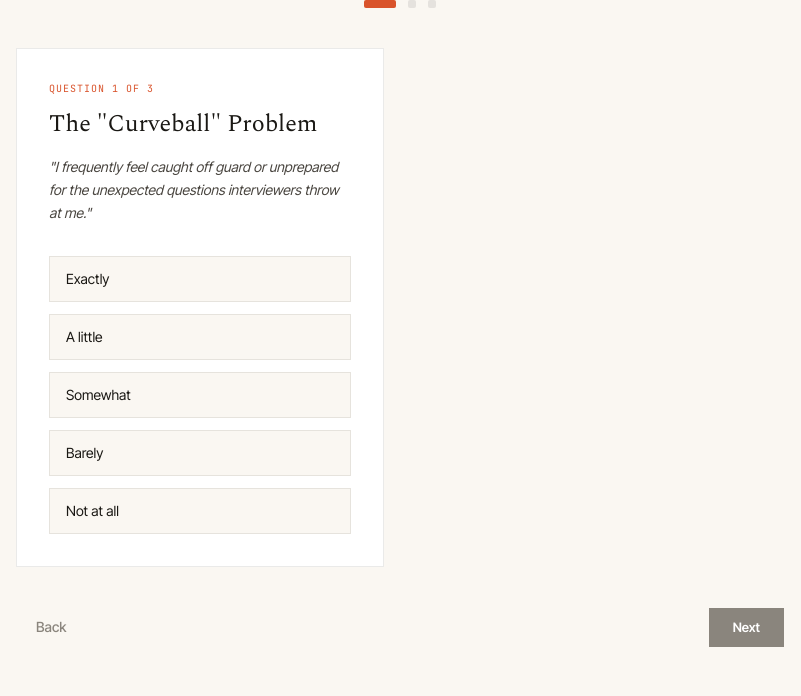
Test: SurveyStep › navigates to screen 2 when Next is clicked
This screenshot has width=801, height=696.
Click the button "Exactly".
click(88, 279)  # box [49, 256, 351, 302]
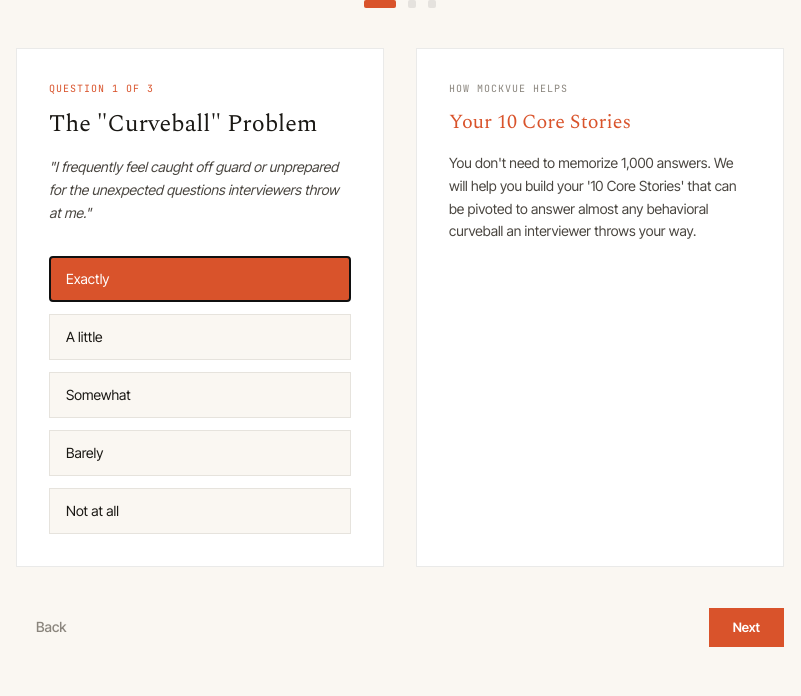
Click the button "Next".
click(746, 627)  # box [709, 608, 784, 647]
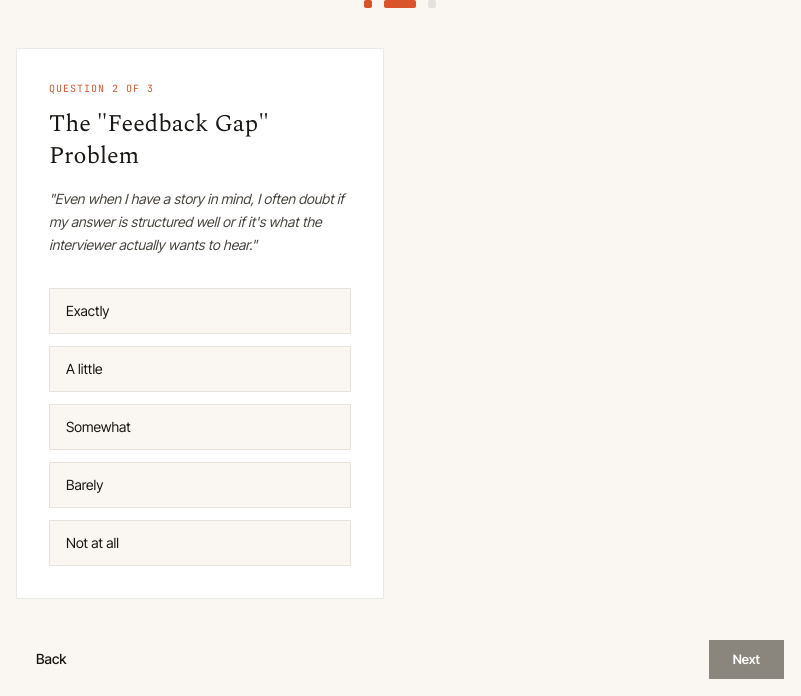
Expected: the heading "The \"Feedback Gap\" Problem" is shown, [49, 106, 269, 174]
Expected: the text "Question 2 of 3" is shown, [49, 82, 154, 95]
